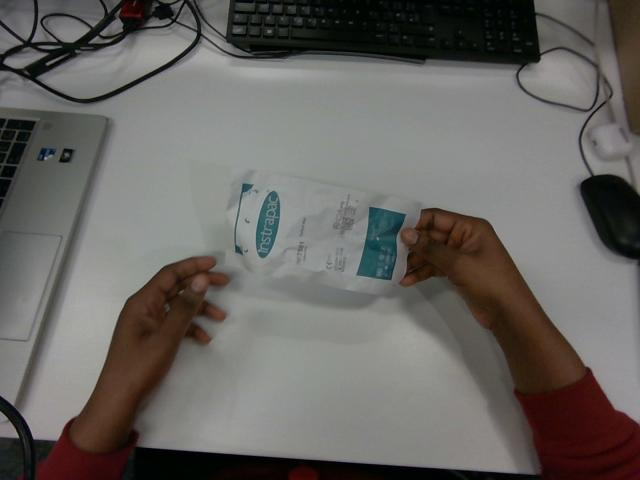gallipot: (226, 171, 420, 293)
